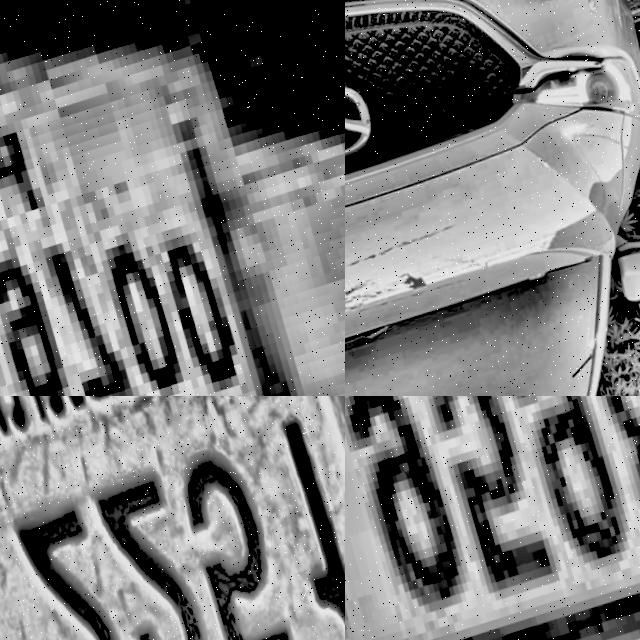license-plate: (0, 0, 345, 396), (0, 396, 345, 640), (345, 396, 640, 640)
